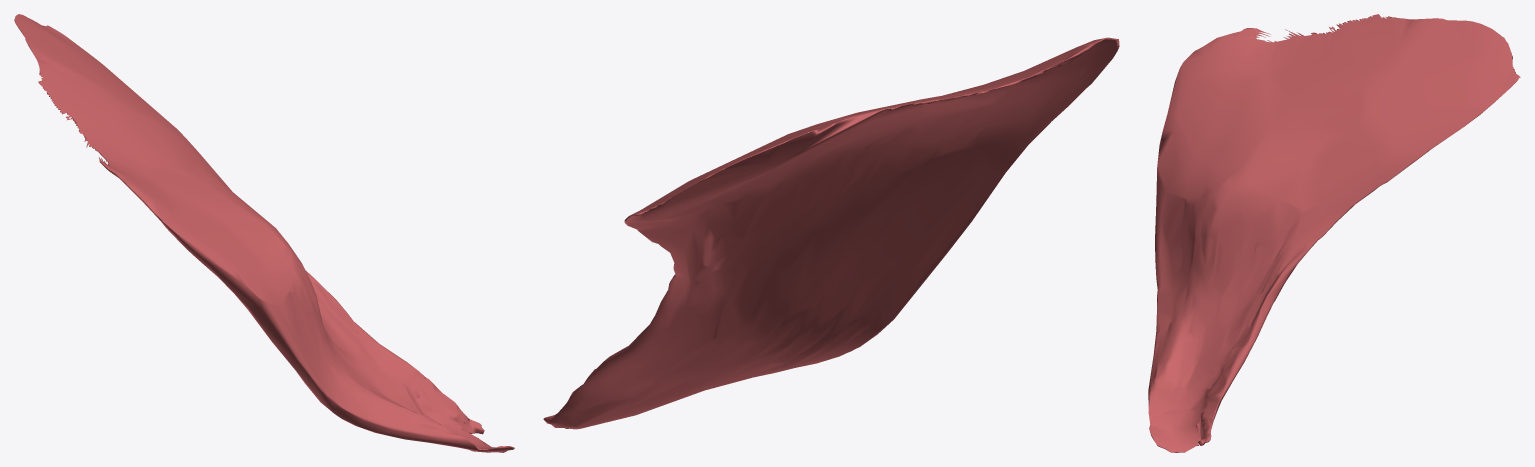
3 views of the same model, side by side, from view 1: azimuth 30°, elevation 25°; view 2: azimuth 150°, elevation 25°; view 3: azimuth 270°, elevation 25° (orthographic). The views are drawn at different scales.
Visible parts, largest first — view 1: 左侧肩胛下肌; view 2: 左侧肩胛下肌; view 3: 左侧肩胛下肌.
Part boxes in pixels (box(x1,y1,x2,y2)): 左侧肩胛下肌: box(14, 14, 514, 452); 左侧肩胛下肌: box(543, 37, 1119, 429); 左侧肩胛下肌: box(1148, 14, 1520, 452).
Bounding box in the file's own units: 0.1547 × 0.1547 × 0.1688.
